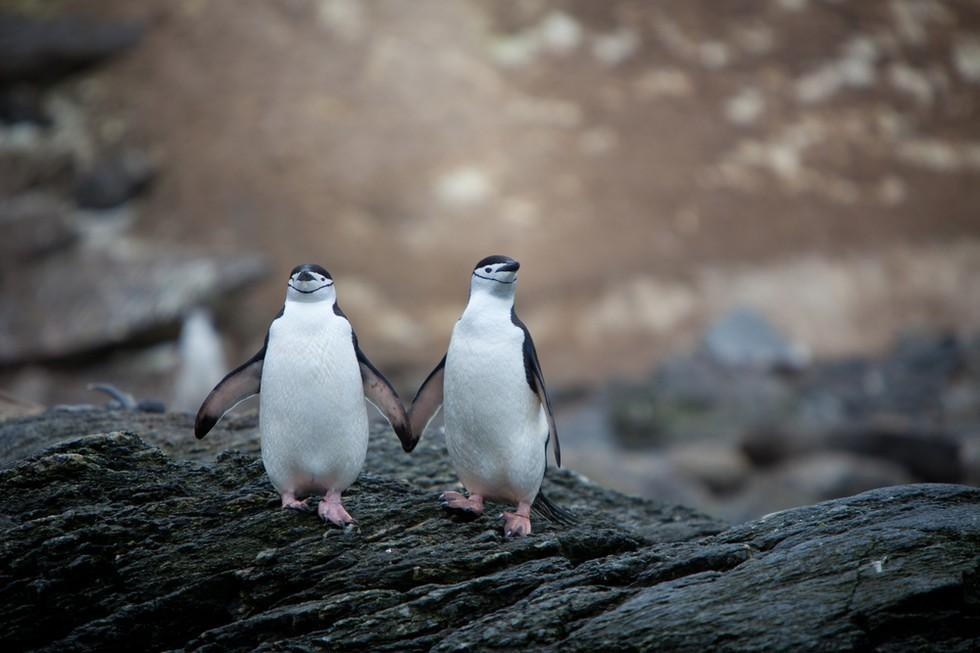Penguin: (195, 264, 411, 525), (408, 255, 576, 535)
